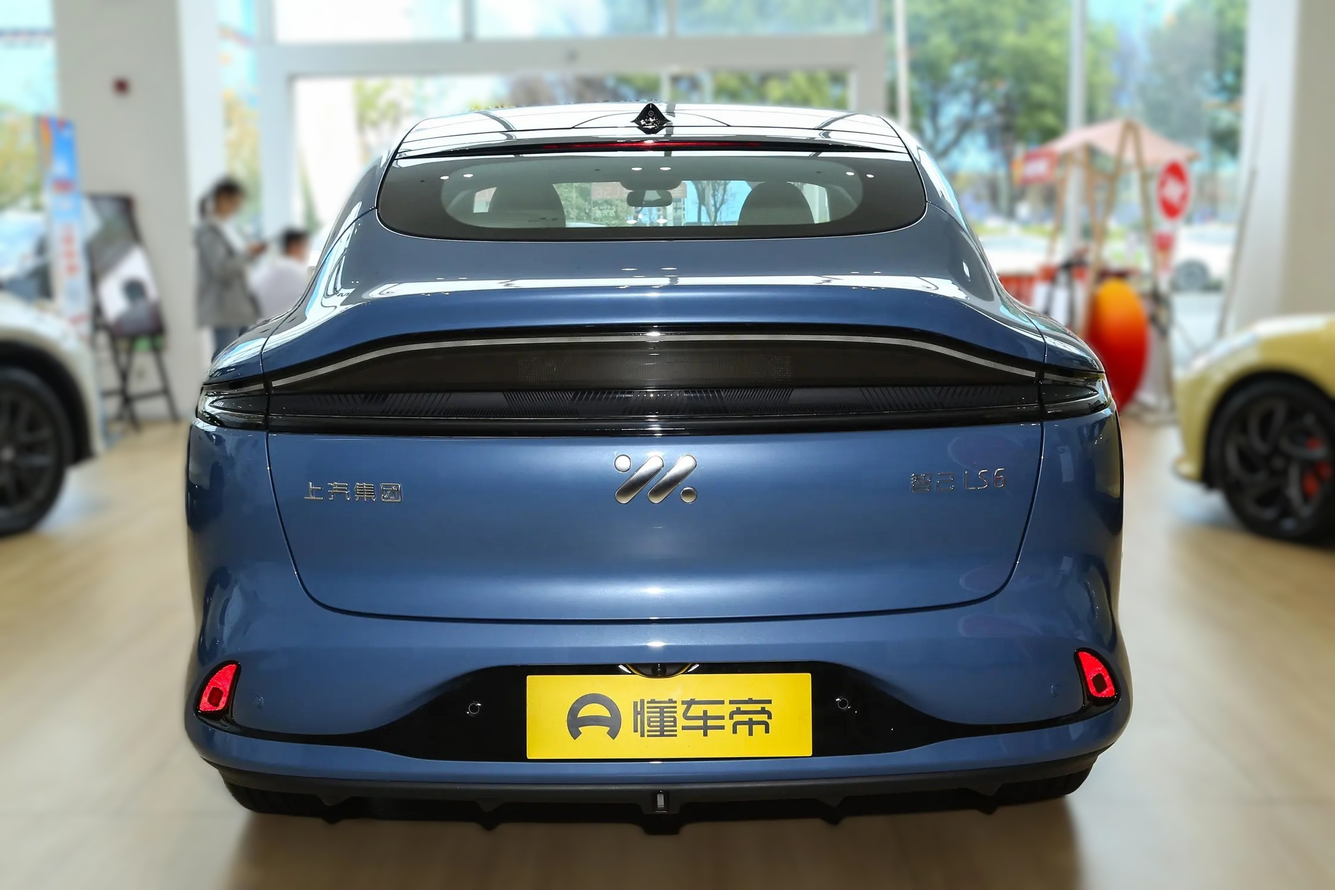IM: (615, 455, 696, 503)
